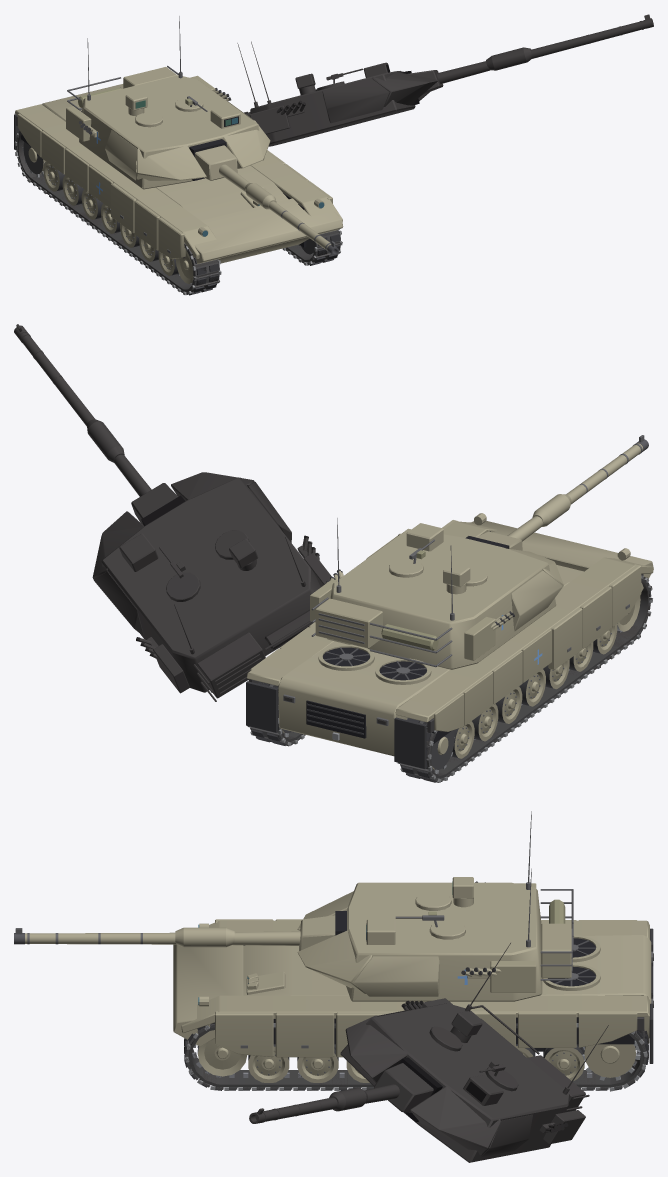
File: tank__leopard_2a7v.glb
3 views of the same model, one above another, from view 1: azimuth 30°, elevation 25°; view 2: azimuth 150°, elevation 25°; view 3: azimuth 270°, elevation 25° (orthographic). The views are drawn at different scales.
Parts seen in each view (by area): view 1: Hull_Mesh, Turret_Mesh, Wreck, Track_L_Mesh, Gun_Mesh, Track_R_Mesh, Gunner_Sight_Mesh, Sprocket_L_Mesh, CITV_Mesh, Wheel_L0_Mesh, Wheel_L1_Mesh, Wheel_L2_Mesh; view 2: Wreck, Hull_Mesh, Turret_Mesh, Track_L_Mesh, Gun_Mesh, Gunner_Sight_Mesh, Track_R_Mesh, Hatch_Loader_Mesh, CITV_Mesh, Sprocket_L_Mesh, Wheel_L1_Mesh, Wheel_L2_Mesh (+1 smaller); view 3: Hull_Mesh, Wreck, Turret_Mesh, Gun_Mesh, Track_R_Mesh, Sprocket_R_Mesh, Idler_R_Mesh, Wheel_R6_Mesh, Wheel_R0_Mesh, Wheel_R5_Mesh, Hatch_Loader_Mesh, Gunner_Sight_Mesh (+2 smaller).
Part boxes in pixels (x1,y1,x2,y2): Hull_Mesh: (14,84,343,264); Turret_Mesh: (66,65,270,189); Wreck: (14,14,653,295); Track_L_Mesh: (14,130,221,295); Gun_Mesh: (195,145,339,255); Track_R_Mesh: (282,229,342,265); Gunner_Sight_Mesh: (210,106,240,128); Sprocket_L_Mesh: (22,142,45,177); CITV_Mesh: (125,91,147,116); Wheel_L0_Mesh: (43,161,64,191); Wheel_L1_Mesh: (62,175,83,205); Wheel_L2_Mesh: (81,189,102,219); Wreck: (14,324,652,782); Hull_Mesh: (246,513,653,768); Turret_Mesh: (310,528,563,669); Track_L_Mesh: (397,574,652,782); Gun_Mesh: (476,435,648,550); Gunner_Sight_Mesh: (406,523,443,551); Track_R_Mesh: (247,681,305,746); Hatch_Loader_Mesh: (389,539,434,577); CITV_Mesh: (443,563,470,594); Sprocket_L_Mesh: (431,730,454,773); Wheel_L1_Mesh: (472,704,498,741); Wheel_L2_Mesh: (495,686,522,723); Hull_Mesh: (173,919,653,1063); Wreck: (184,943,648,1162); Turret_Mesh: (297,882,573,1001); Gun_Mesh: (14,915,335,950); Track_R_Mesh: (184,1022,648,1091); Sprocket_R_Mesh: (582,1040,640,1080); Idler_R_Mesh: (197,1039,247,1076); Wheel_R6_Mesh: (248,1044,289,1082); Wheel_R0_Mesh: (543,1044,584,1080); Wheel_R5_Mesh: (297,1044,338,1082); Hatch_Loader_Mesh: (395,911,465,939); Gunner_Sight_Mesh: (366,919,395,944).
Size of what is drawn, in the model's own units: 11.98 by 3.76 by 10.56.
